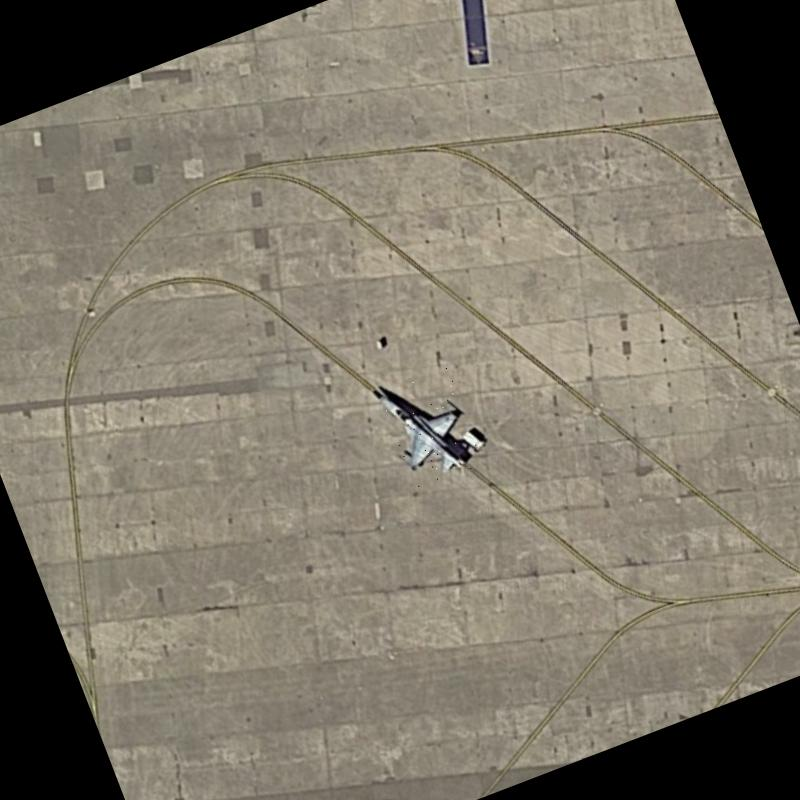A16: (370, 361, 487, 492)
